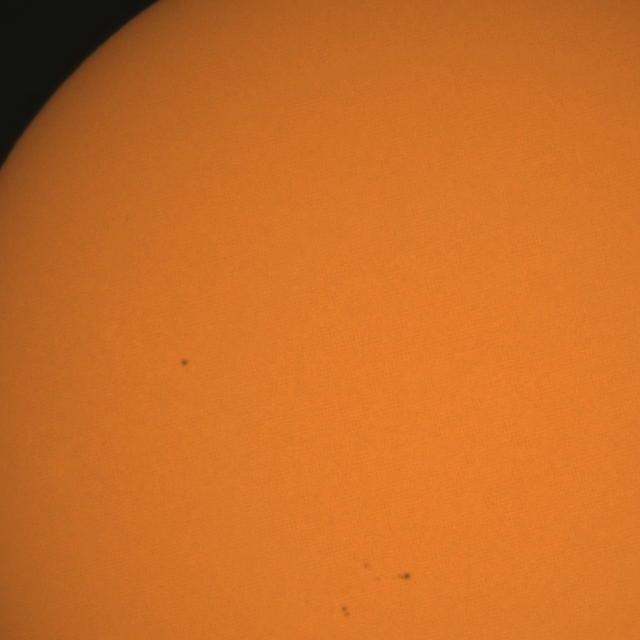sunspot: (397, 570, 412, 582), (340, 605, 351, 619), (179, 357, 190, 368)
